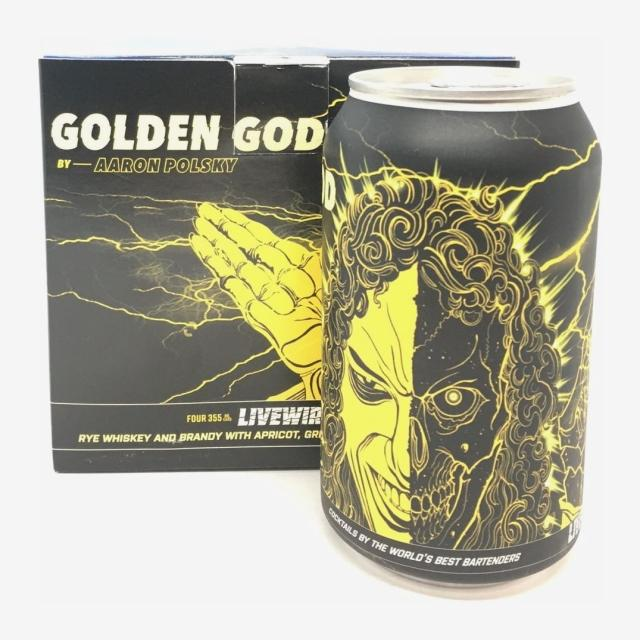Cans: (321, 65, 604, 598)
